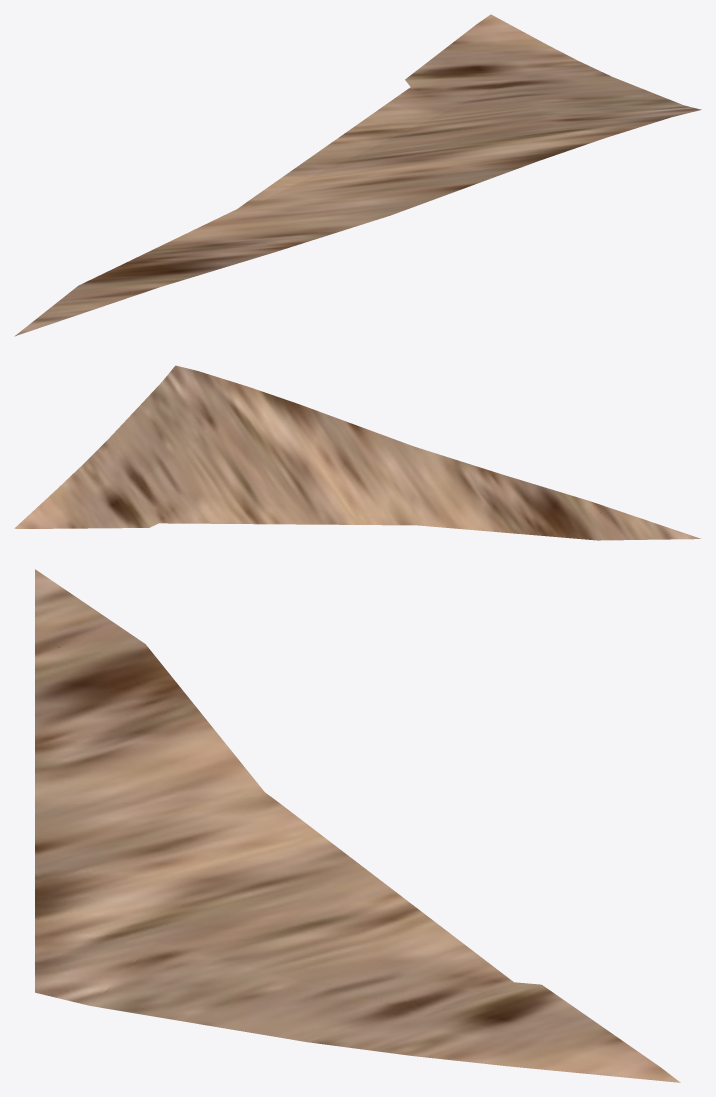
3 renders of one model, top to bottom at view 1: azimuth 30°, elevation 25°; view 2: azimuth 150°, elevation 25°; view 3: azimuth 270°, elevation 25°, orthographic. The views are drawn at different scales.
Size of the model in its own units: 1.9 by 0.1556 by 1.01.
1 material, 1 textured.
